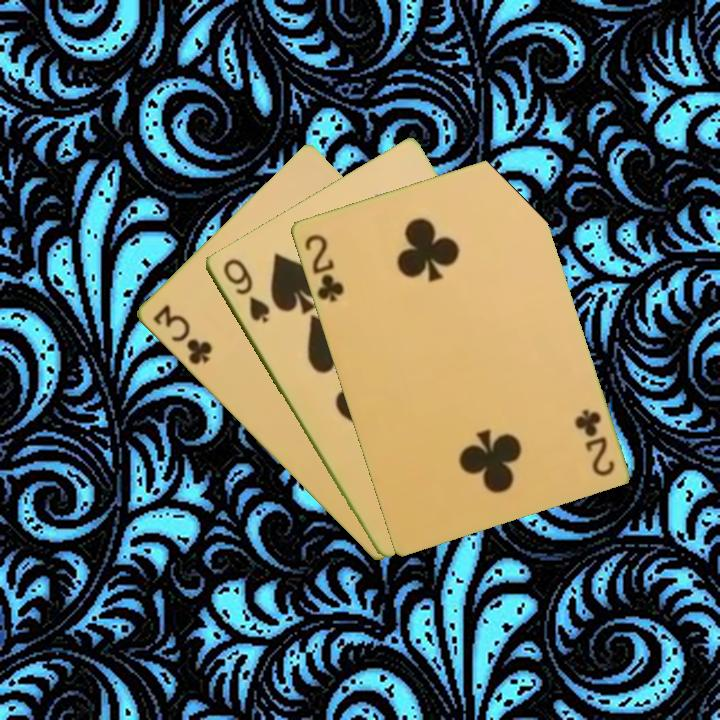2c: (300, 230, 347, 305), (571, 405, 617, 479)
3c: (148, 301, 215, 368)
9s: (218, 254, 273, 326)
